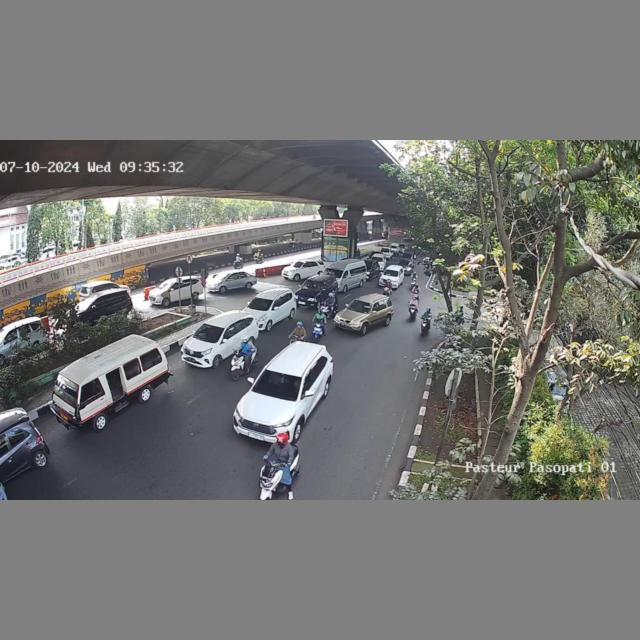windshield: (251, 369, 303, 401), (52, 373, 80, 409), (193, 323, 226, 343), (247, 296, 273, 312), (347, 298, 372, 314), (303, 281, 323, 292)
